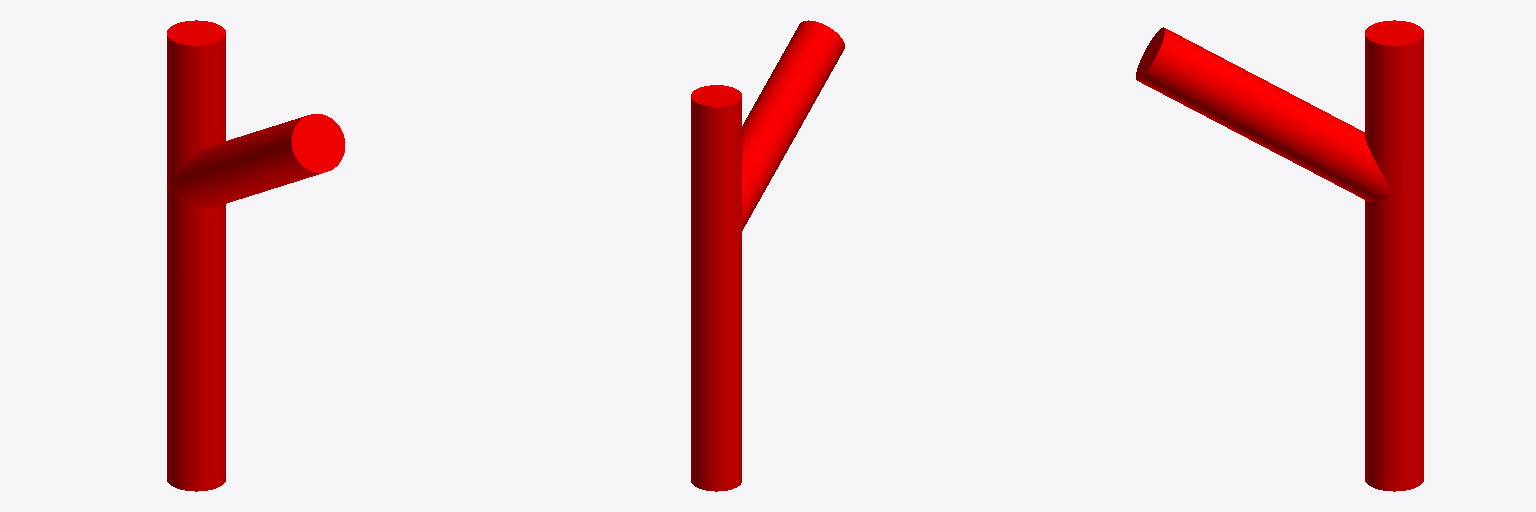
The robot description file, URDF, robot "tree.urdf":
<?xml version="1.0" ?>
<robot name="tree.urdf">
  <link name="baseLink">
    <inertial>
      <origin rpy="0 0 0" xyz="0 0 0"/>
       <mass value=".1"/>
       <inertia ixx="1" ixy="0" ixz="0" iyy="1" iyz="0" izz="1"/>
    </inertial>
    <visual>
      <origin rpy="0 0 0" xyz="0 0 0"/>
      <geometry>
        <mesh filename="10.stl" scale="1 1 1" />
      </geometry>
      <material name="red">
        <color rgba="1 0 0 1"/>
      </material>
    </visual>
    <collision>
      <origin rpy="0 0 0" xyz="0 0 0"/>
      <geometry>
        <mesh filename="10_convex.obj" scale="1 1 1" />
      </geometry>
    </collision>
  </link>
</robot>

--- What the picture shows (computed from the rendered views, not written in the file) ---
The picture shows the robot from 3 angles, left to right: view 1: azimuth 30°, elevation 25°; view 2: azimuth 150°, elevation 25°; view 3: azimuth 270°, elevation 25°; orthographic projection.
Model tree.urdf with 1 links and 0 joints (none), rooted at baseLink, posed every joint at zero.
Links seen in each view (by area): view 1: baseLink; view 2: baseLink; view 3: baseLink.
Boxes of the visible links, x1,y1,x2,y2 form: baseLink: (167,20,344,491); baseLink: (691,20,844,491); baseLink: (1136,20,1423,491).
Bounding box of the posed robot: 0.0304 × 0.1468 × 0.2514 m (x, y, z).
Meshes: 1 distinct files referenced, 1 mesh visuals loaded (1 binary STL).